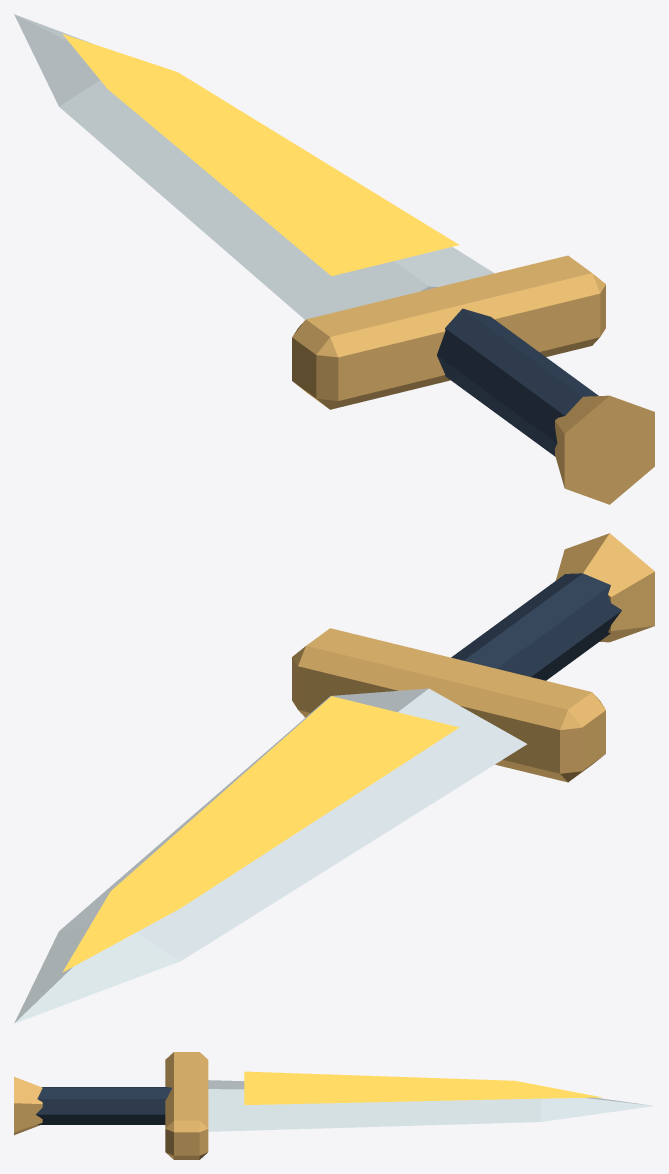
Rendered from sentinel_blade.glb.
The picture shows the model from 3 angles, top to bottom: view 1: azimuth 30°, elevation 25°; view 2: azimuth 150°, elevation 25°; view 3: azimuth 270°, elevation 25°; orthographic projection. The views are drawn at different scales.
Visible parts, largest first — view 1: WPN_SentinelBlade_01; view 2: WPN_SentinelBlade_01; view 3: WPN_SentinelBlade_01.
Part boxes in pixels (x1,y1,x2,y2): WPN_SentinelBlade_01: (14,14,654,504); WPN_SentinelBlade_01: (14,533,654,1023); WPN_SentinelBlade_01: (14,1052,653,1159).
Size of the model in its own units: 0.25 by 0.09 by 0.89.
